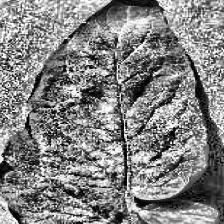spider mites: (0, 0, 218, 224)
